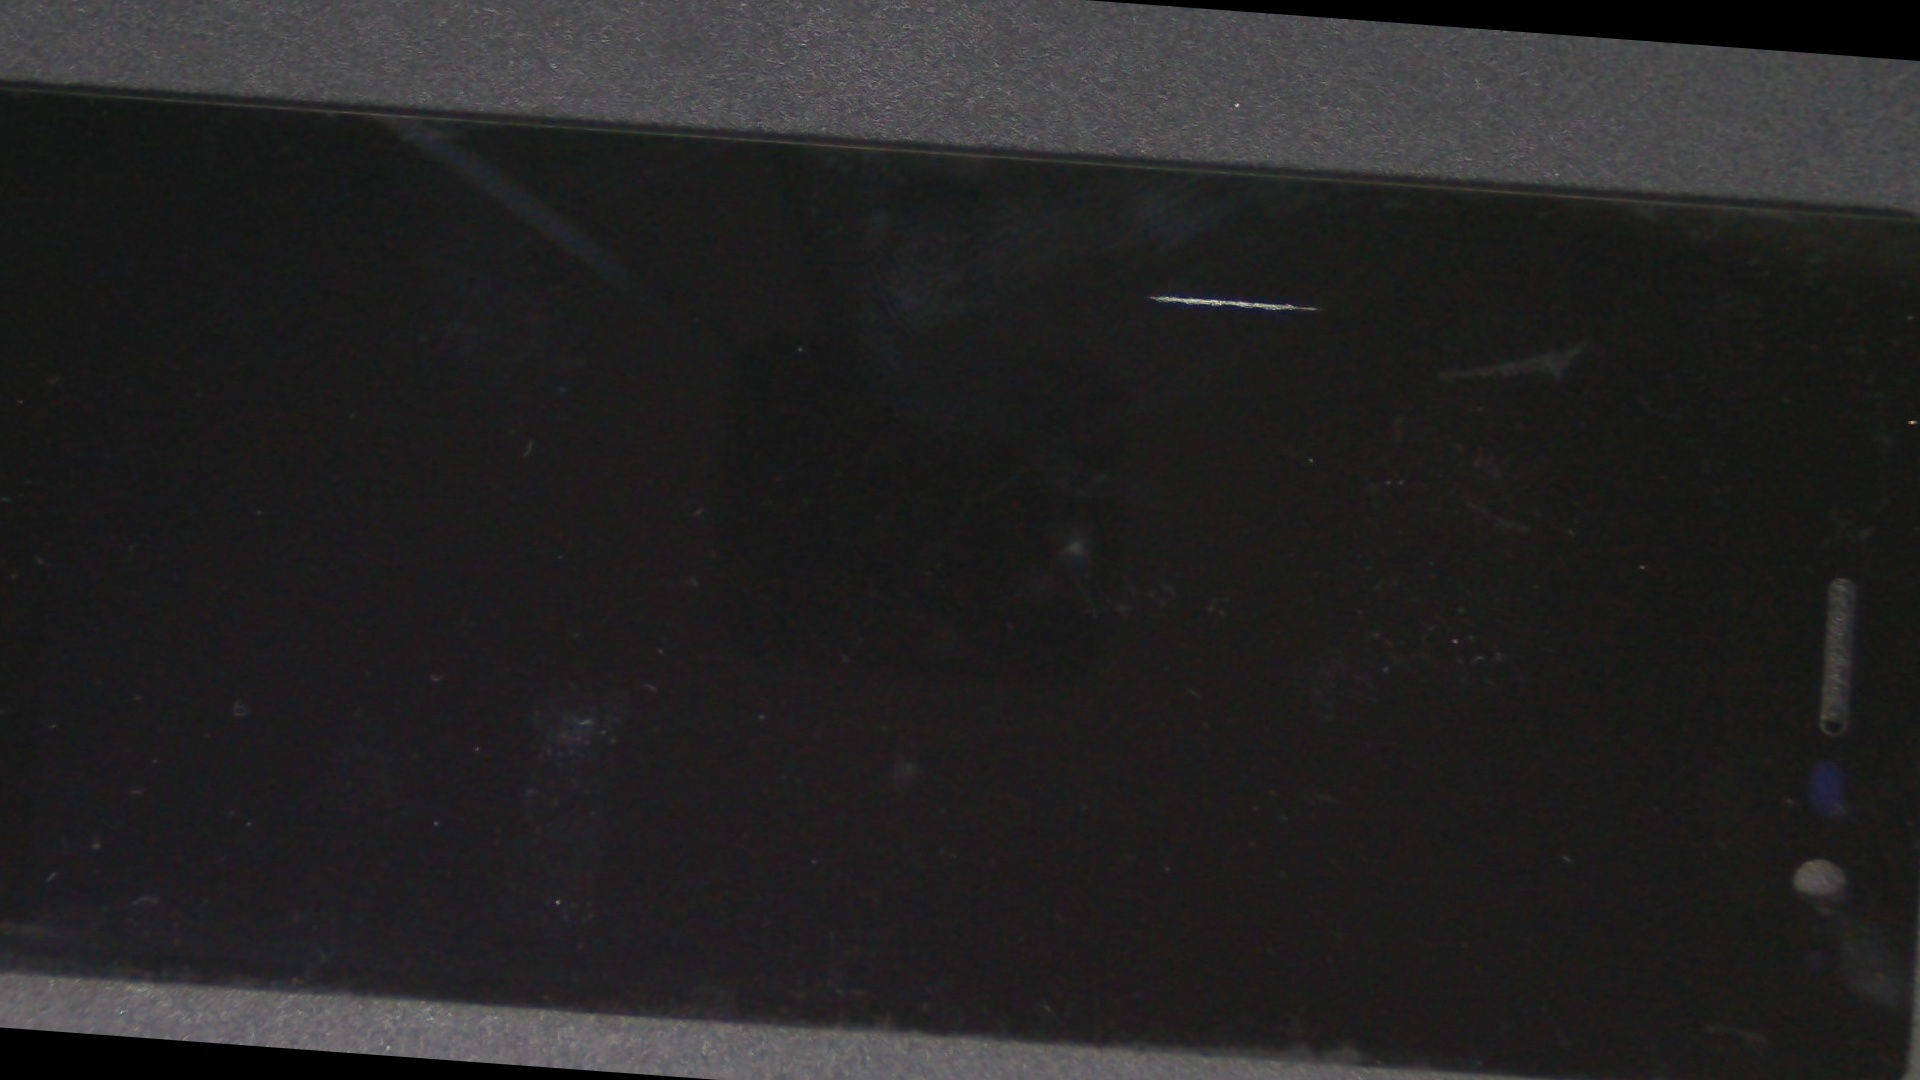oil: (513, 103, 1920, 496)
